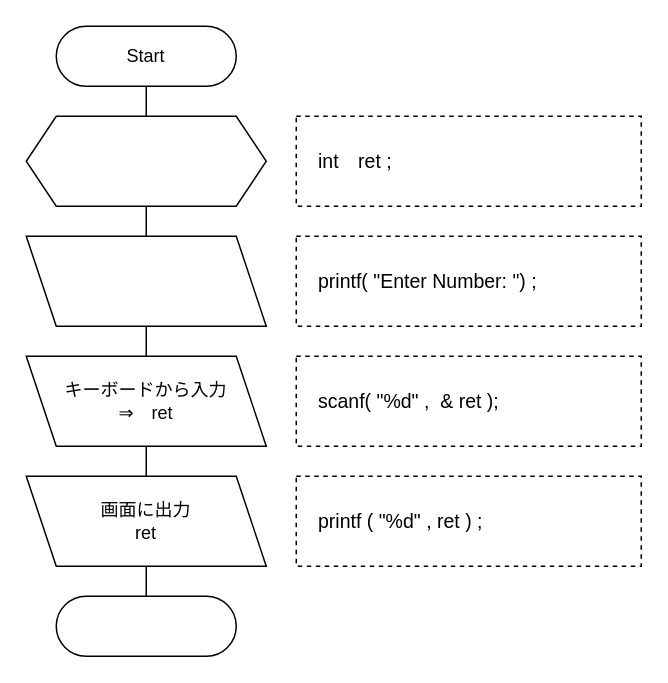
Some shapes in this 668 by 683 pixel diagram are drawn without their labels. The shapes that lost their labels are listed below. From the top down, each one's centre as x and y in pixels, then its label:
point (145, 160): 変数の初期化 int ret
point (145, 280): 画面に出力 ”Enter Number:”
point (145, 625): End
